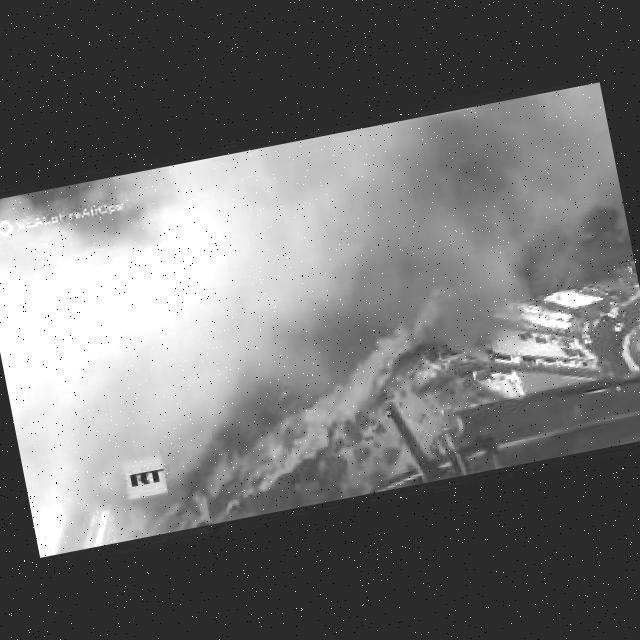Fire: (97, 288, 487, 538)
Smoke: (328, 87, 621, 382)
